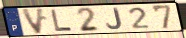2: (75, 7, 101, 33), (128, 7, 152, 30)
7: (151, 5, 174, 30)
J: (105, 7, 124, 31)
L: (50, 9, 74, 33)
V: (20, 7, 47, 35)
